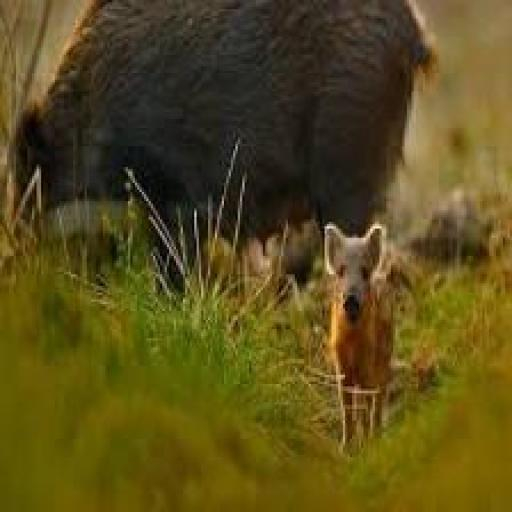Pig: (0, 0, 455, 350), (315, 215, 399, 470)
